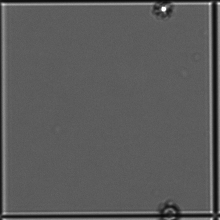Living Cell: (151, 1, 175, 19)
